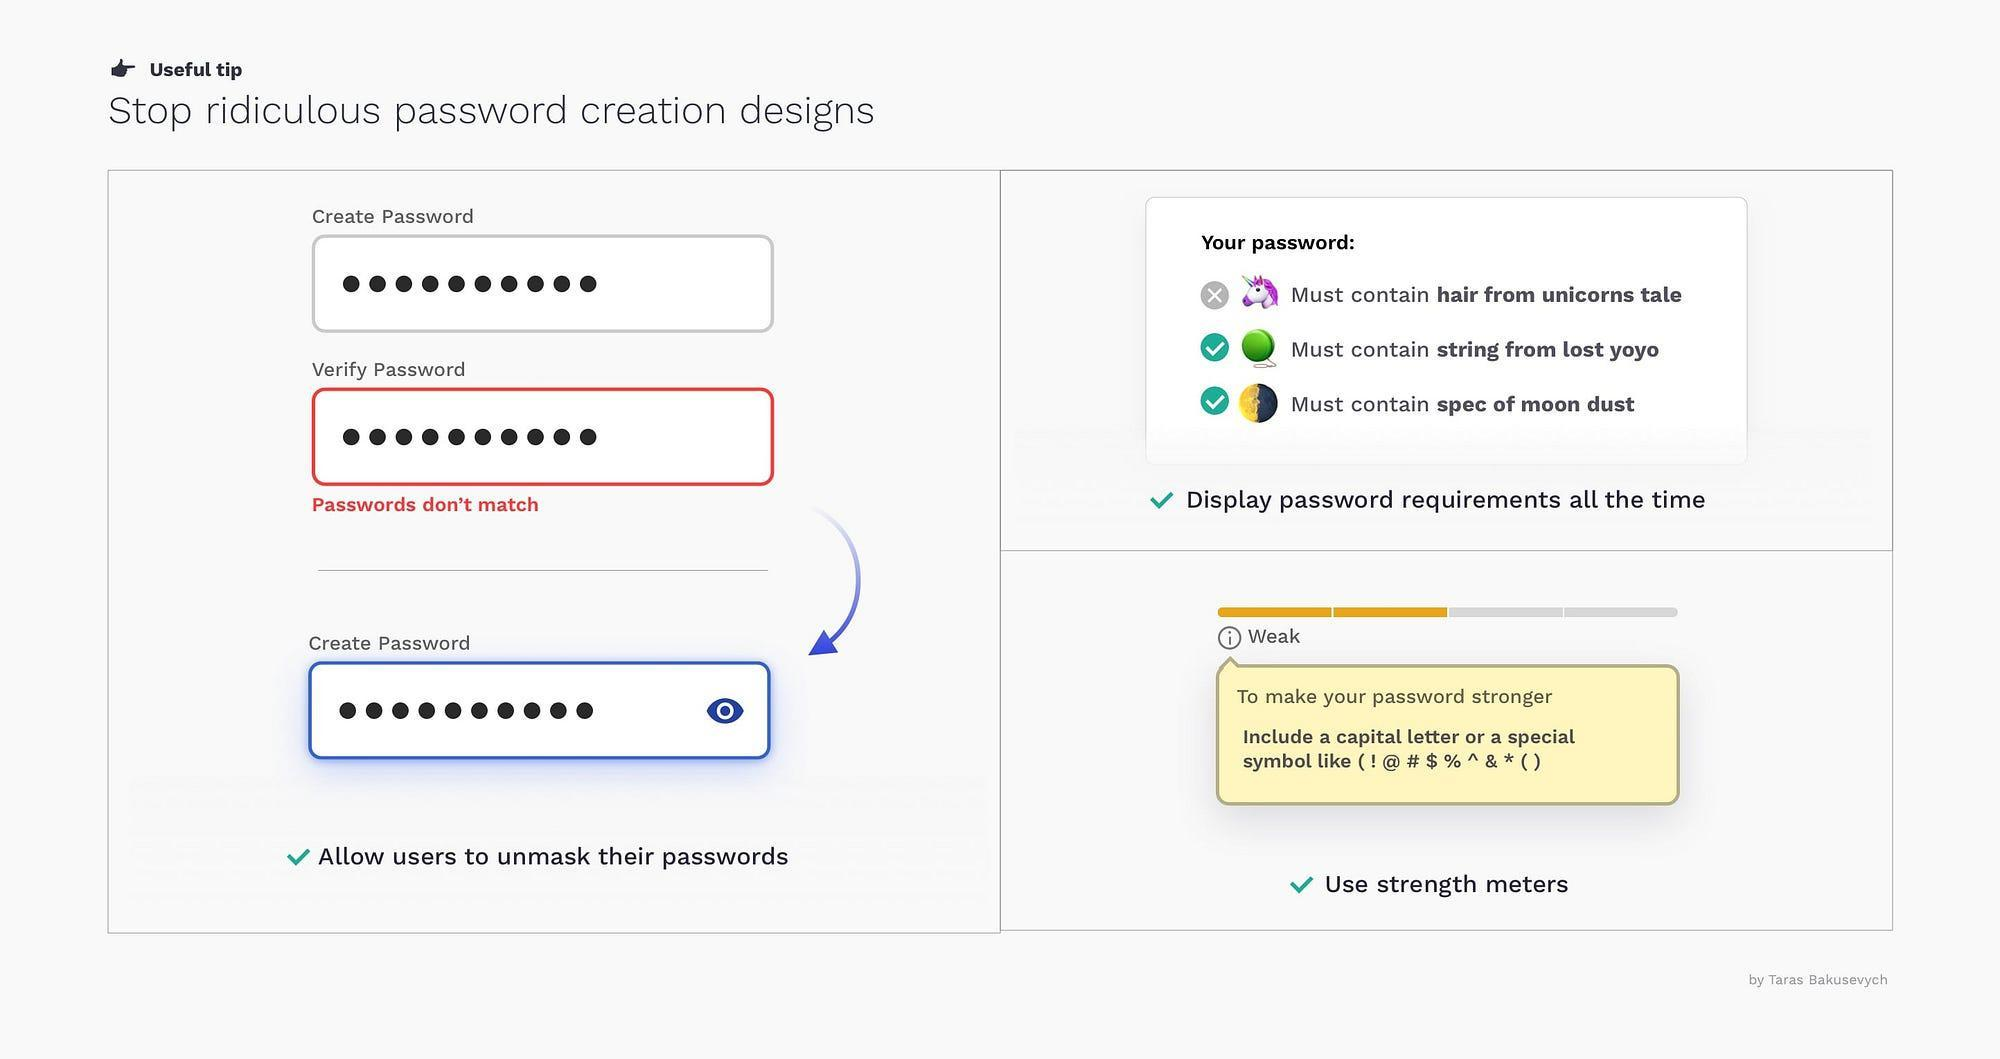checkbox: (1200, 385, 1231, 419), (1198, 334, 1231, 364), (1201, 282, 1231, 311)
icon: (702, 691, 753, 731)
input: (310, 662, 770, 758), (315, 237, 774, 332), (313, 390, 774, 484)
label: (272, 836, 811, 877), (307, 628, 476, 654), (311, 205, 478, 231), (308, 358, 470, 379)
